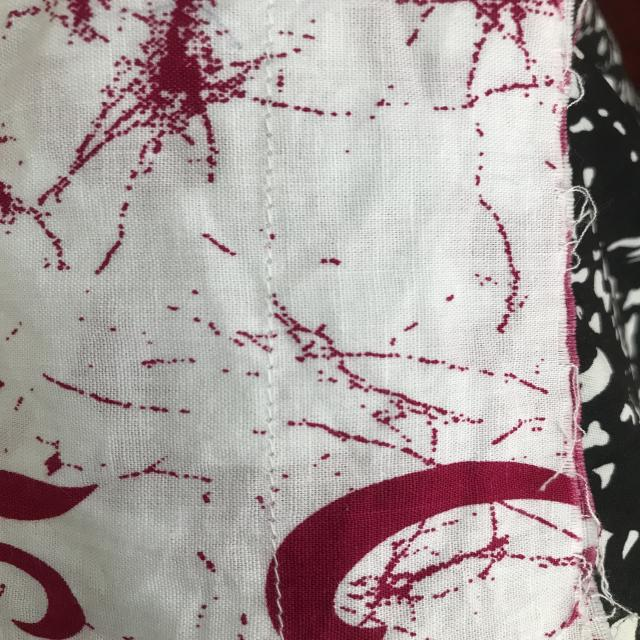good: (253, 373, 303, 502), (249, 163, 289, 313), (250, 52, 293, 142), (268, 553, 297, 638)
